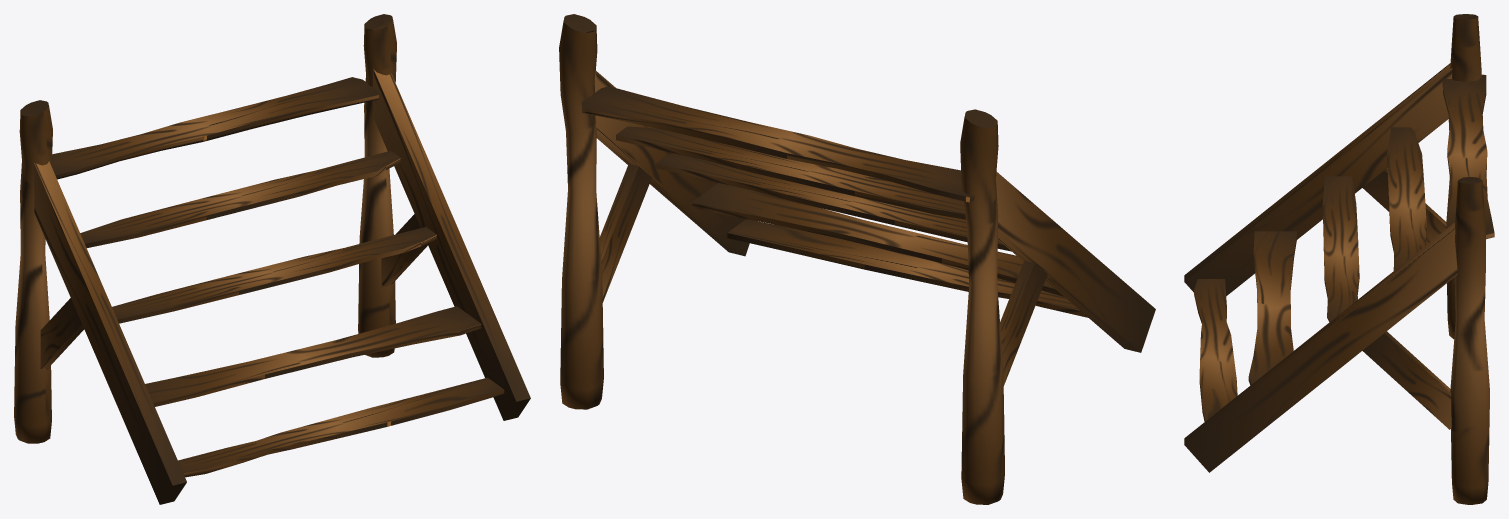
The model's file is WoodenStair.glb.
3 renders of one model, left to right at view 1: azimuth 30°, elevation 25°; view 2: azimuth 150°, elevation 25°; view 3: azimuth 270°, elevation 25°, orthographic. The views are drawn at different scales.
Parts seen in each view (by area): view 1: 5x10Bridge.002; view 2: 5x10Bridge.002; view 3: 5x10Bridge.002.
Part boxes in pixels (x1,y1,x2,y2): 5x10Bridge.002: (14, 14, 530, 504); 5x10Bridge.002: (559, 14, 1155, 504); 5x10Bridge.002: (1184, 14, 1494, 504).
Bounding box in the file's own units: 4.87 × 4.05 × 3.54.
Materials: 1 (1 with a texture image).
